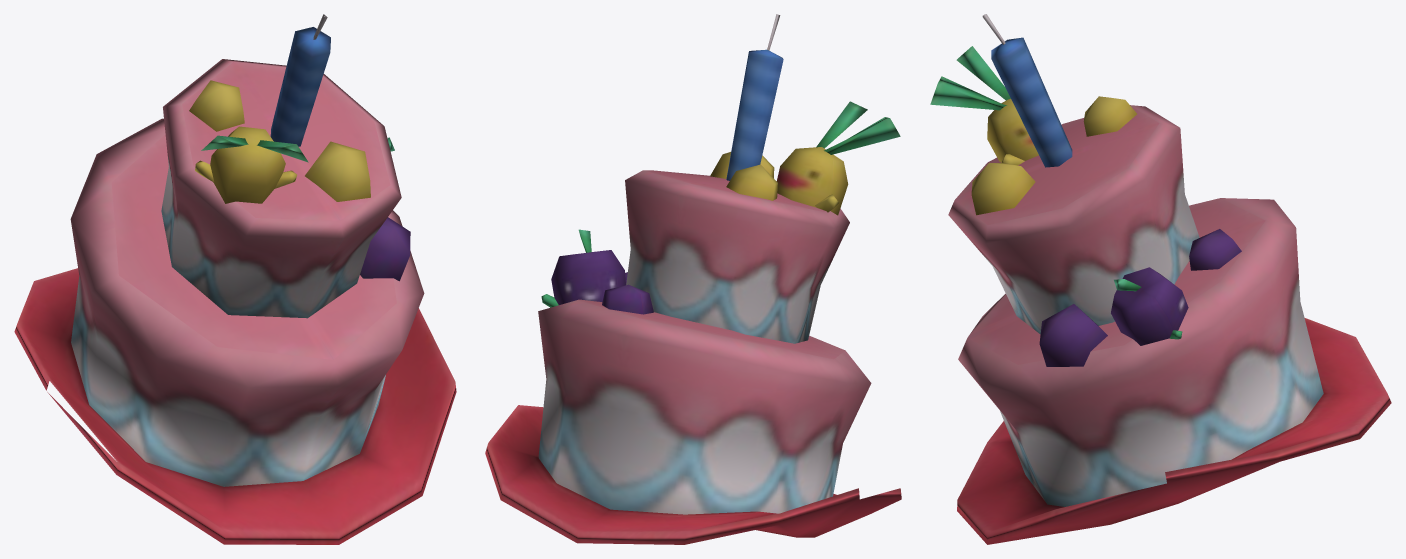
Rendered from cakeHat.glb.
3 views of the same model, side by side, from view 1: azimuth 30°, elevation 25°; view 2: azimuth 150°, elevation 25°; view 3: azimuth 270°, elevation 25° (orthographic). The views are drawn at different scales.
Parts seen in each view (by area): view 1: cakeHat; view 2: cakeHat; view 3: cakeHat.
Boxes of the visible parts, x1,y1,x2,y2 form: cakeHat: [14, 14, 456, 544]; cakeHat: [485, 14, 901, 544]; cakeHat: [930, 14, 1391, 544].
Bounding box in the file's own units: 0.3868 × 0.5257 × 0.4422.
Materials: 1 (1 with a texture image).
